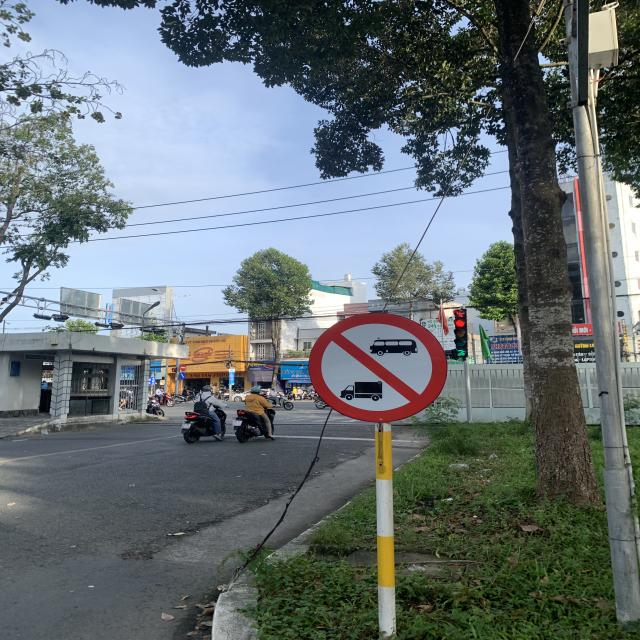Cam_XeTai_XeKhach: (307, 310, 447, 422)
